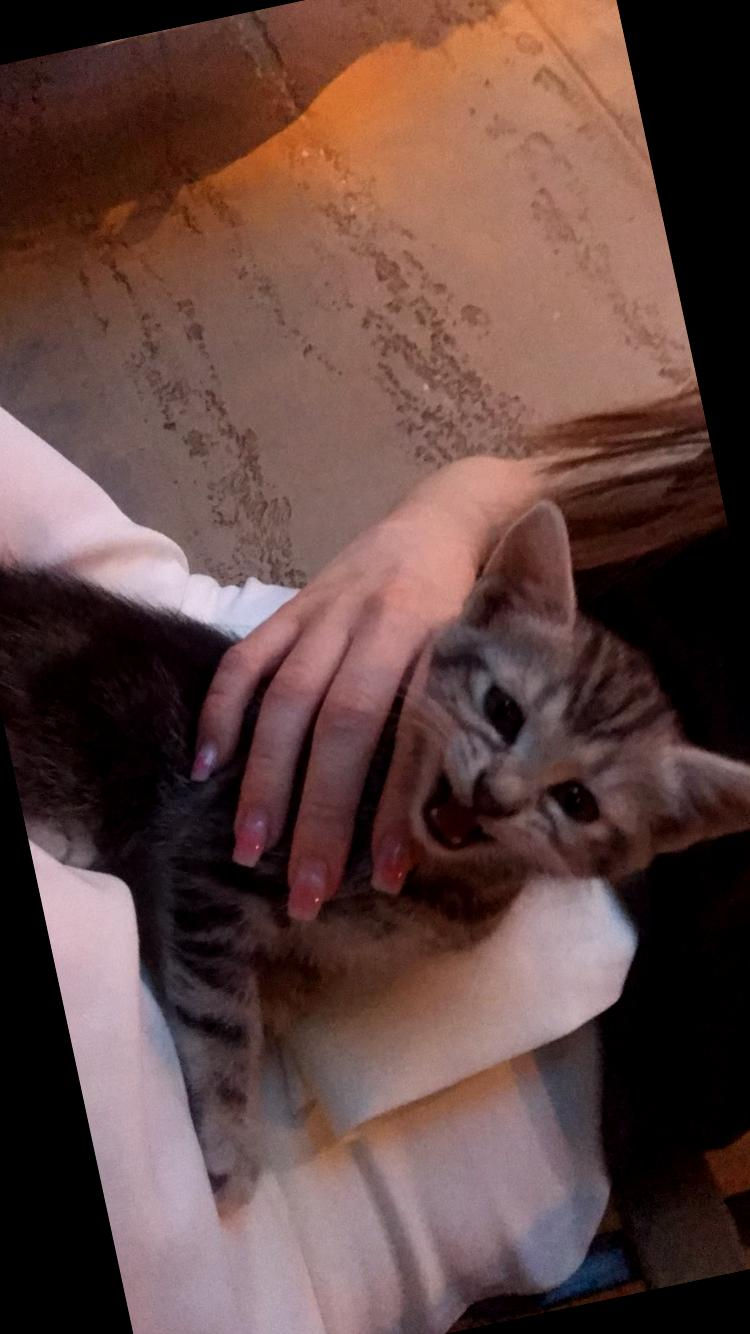macka: (0, 398, 750, 1242)
